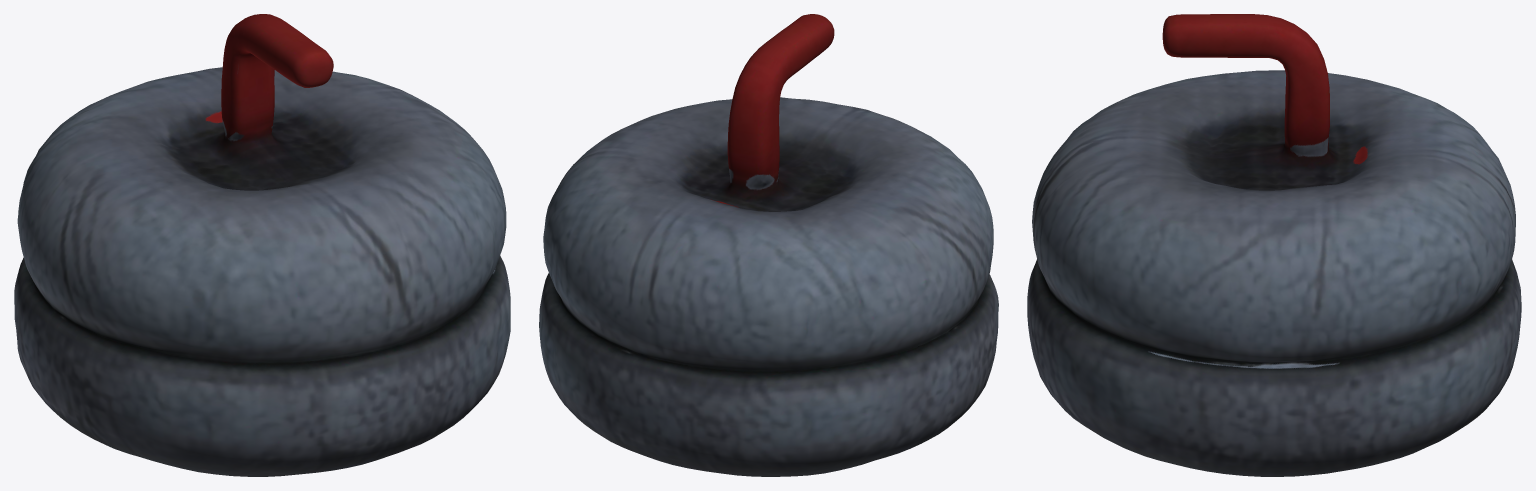
Rendered from RedStone.fbx.
3 renders of one model, left to right at view 1: azimuth 30°, elevation 25°; view 2: azimuth 150°, elevation 25°; view 3: azimuth 270°, elevation 25°, orthographic. The views are drawn at different scales.
Parts seen in each view (by area): view 1: mesh; view 2: mesh; view 3: mesh.
Part boxes in pixels (x1,y1,x2,y2): mesh: (14,14,510,476); mesh: (539,14,998,476); mesh: (1027,14,1521,476).
Bounding box in the file's own units: 99.83 × 86.53 × 99.86.
1 material, 1 textured.
